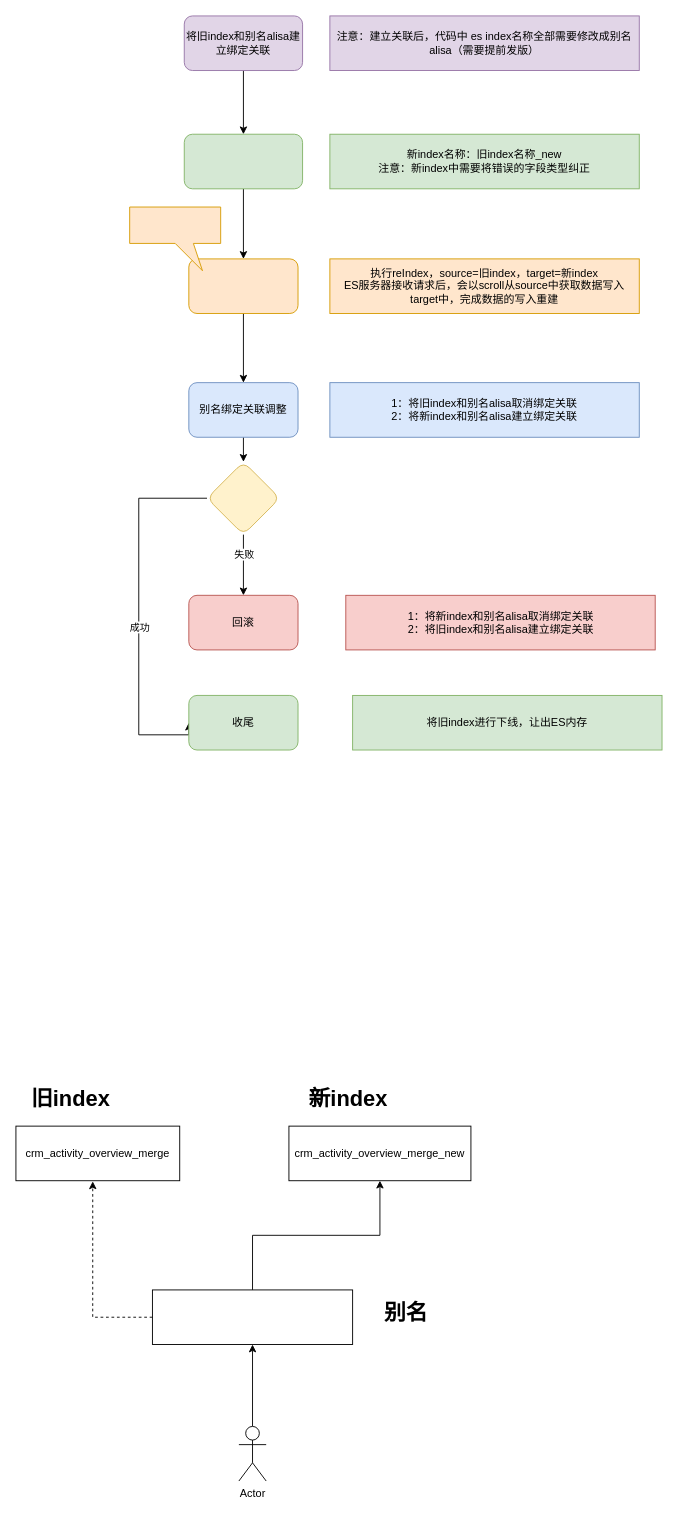
Image size: 678x1516. Some labels were removed from this diagram. Each missing label, with the centre of its shape:
"crm_activity_overview_merge_alias" goes at pixel 252 1317.
"创建新index" goes at pixel 243 161.
"执行reIndex" goes at pixel 243 285.
"重要步骤" goes at pixel 175 238.
"验收" goes at pixel 243 498.
